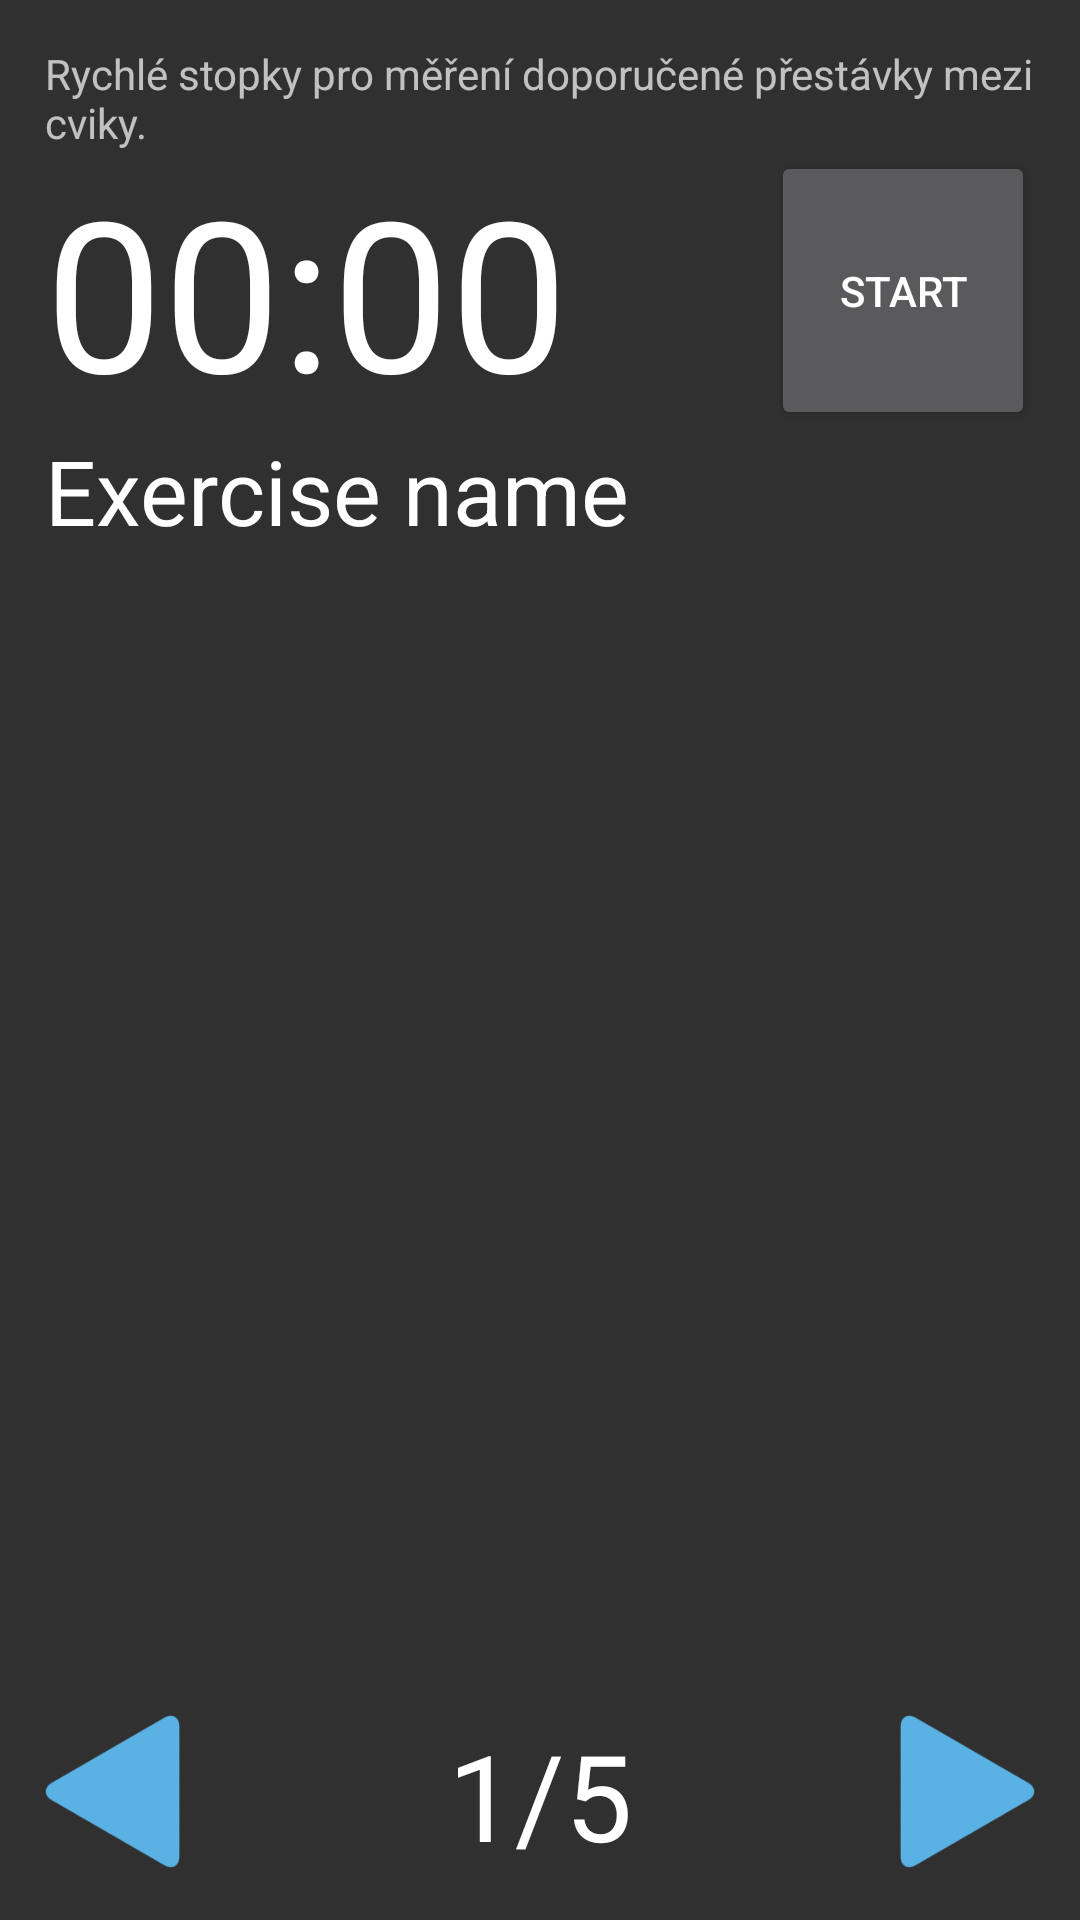

Icons on this 1080px x 1920px Android screen, each with its box as BBox(x1, y1, x2, y2):
backward: BBox(45, 1715, 180, 1868)
forward: BBox(900, 1715, 1035, 1868)
